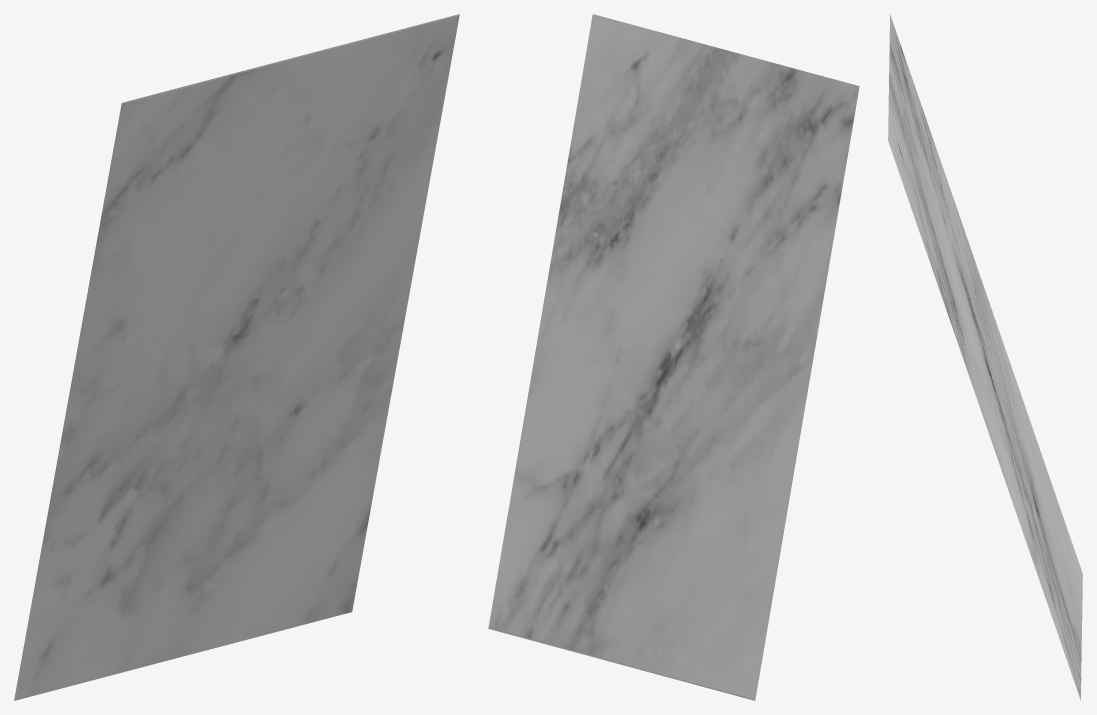
File: white-calacatta.glb
3 renders of one model, left to right at view 1: azimuth 30°, elevation 25°; view 2: azimuth 150°, elevation 25°; view 3: azimuth 270°, elevation 25°, orthographic. The views are drawn at different scales.
Parts seen in each view (by area): view 1: Cube.002; view 2: Cube.002; view 3: Cube.002.
Part boxes in pixels (x1,y1,x2,y2): Cube.002: (14,14,459,700); Cube.002: (488,14,859,700); Cube.002: (888,14,1082,700).
Size of the model in its own units: 1.2 by 2.29 by 0.7192.
1 material, 1 textured.
